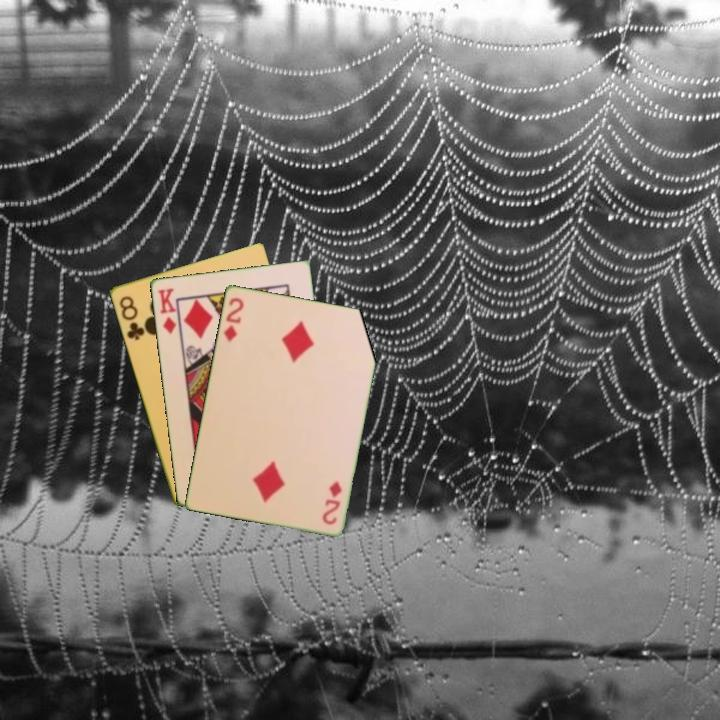2d: (220, 294, 246, 344), (319, 477, 345, 527)
8c: (115, 292, 147, 343)
Kd: (155, 284, 179, 336)
